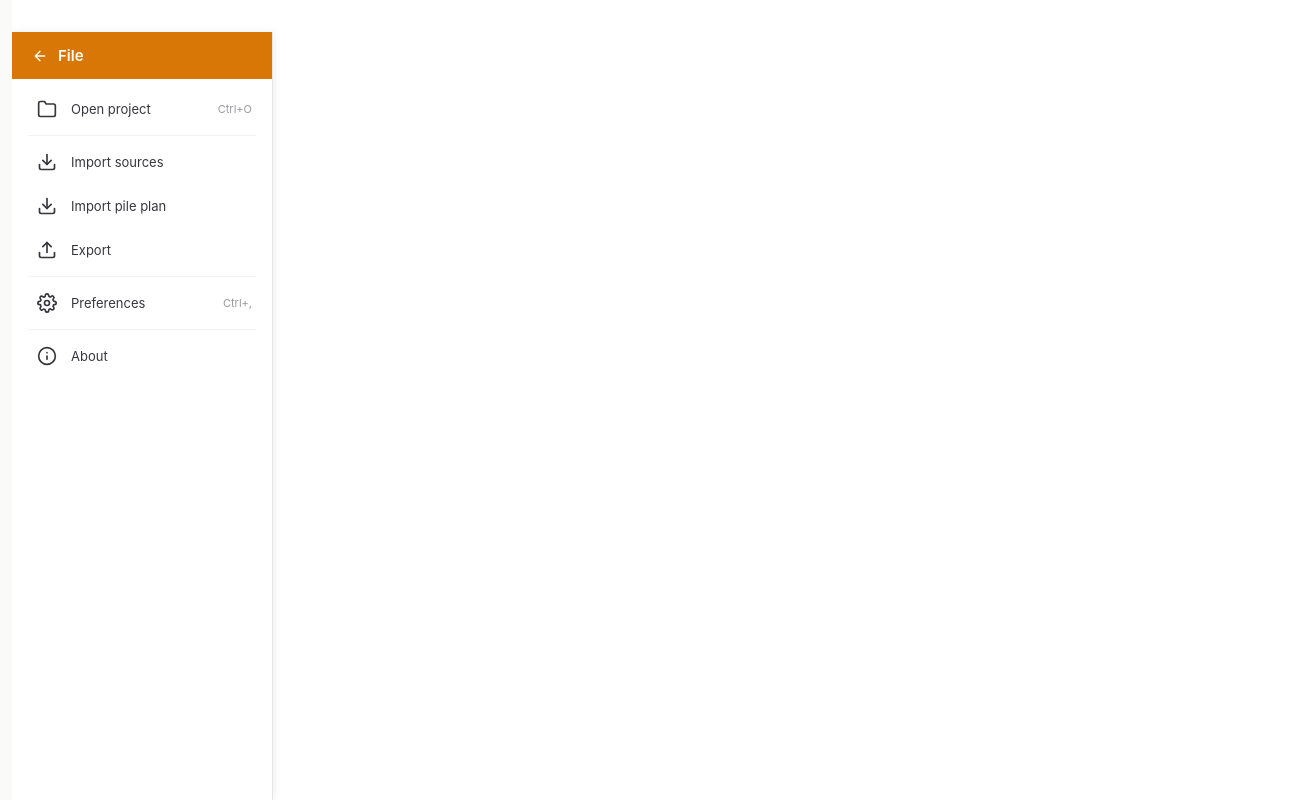
Scenario: all exports are blocked during one pending export and failures restore the controls
Click the button "Export" at [91, 250], box [12, 228, 272, 272]
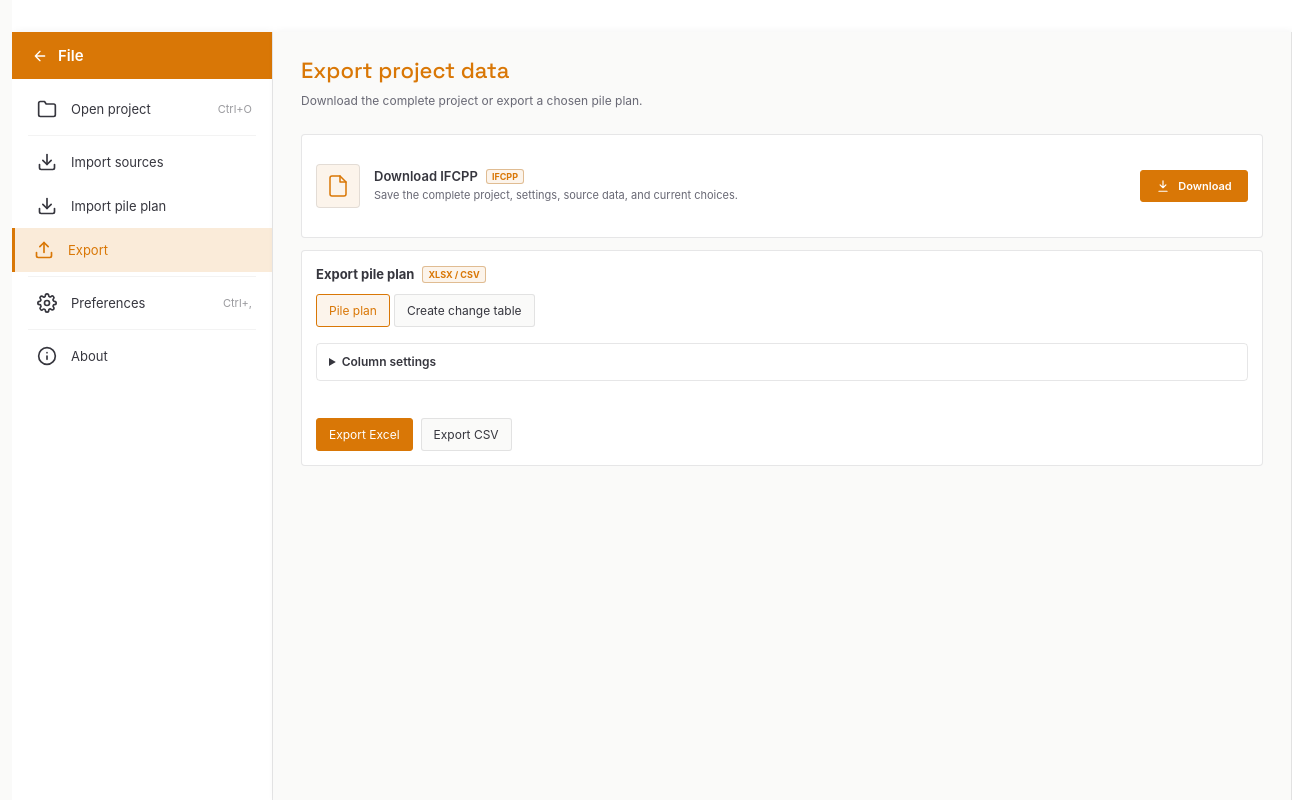
Click the button "Export Excel" at [364, 434], box [316, 418, 413, 451]
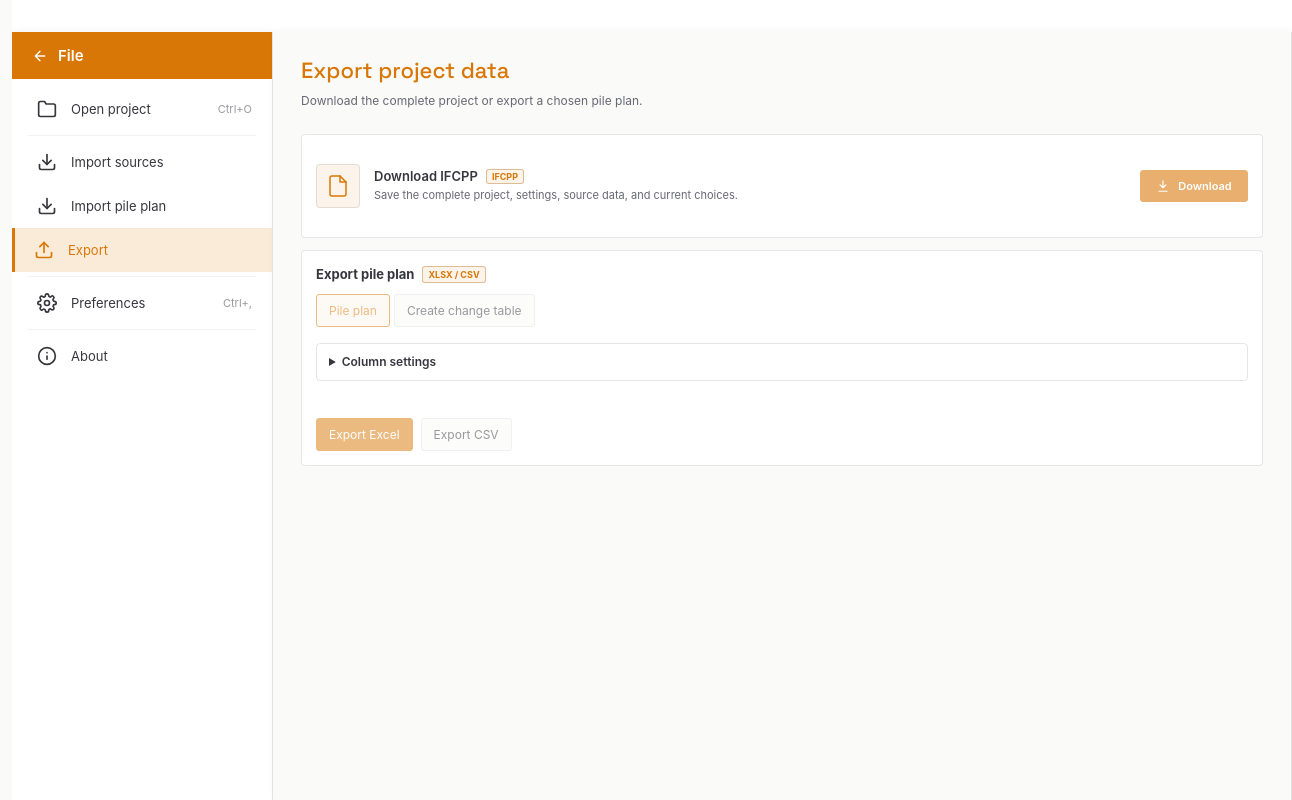
Click the button "Export CSV" at [466, 434], box [421, 418, 512, 451]
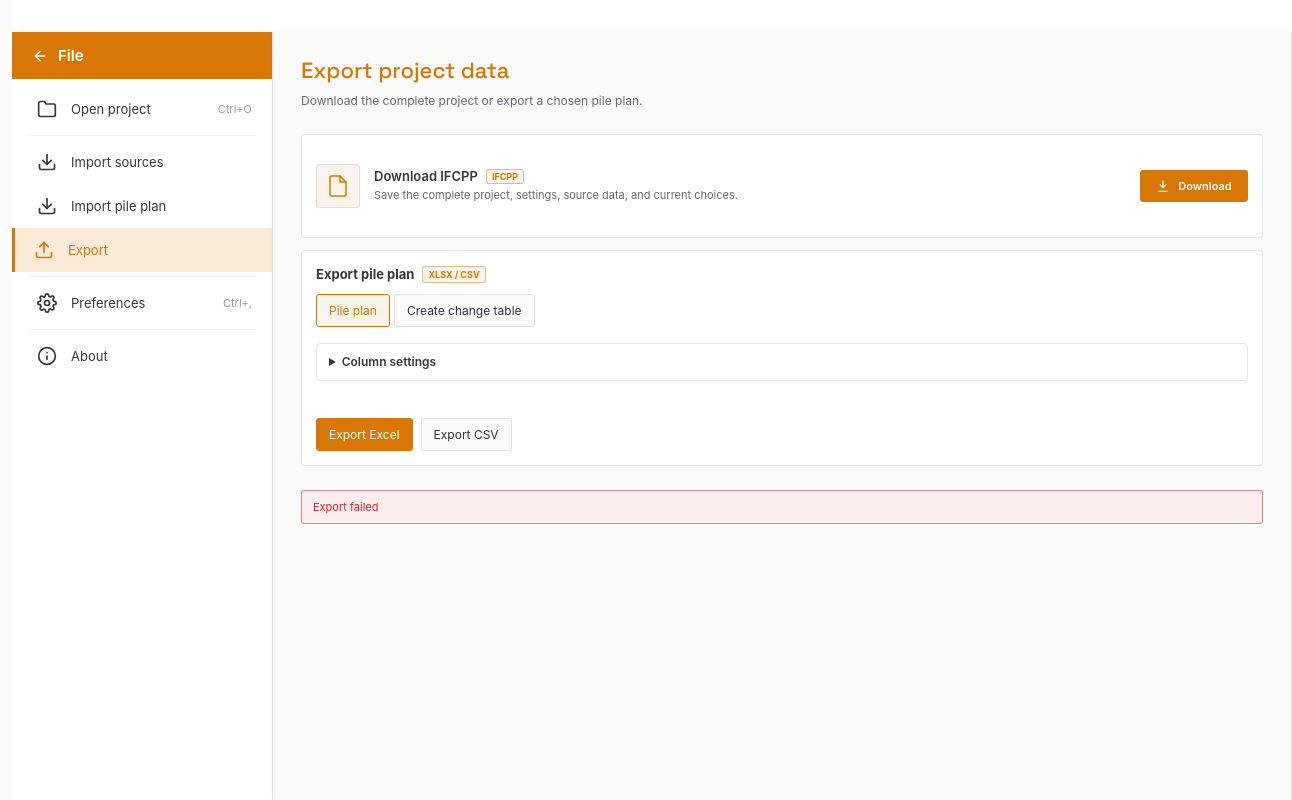
expect the message "Export failed" is shown: met, box [301, 490, 1263, 524]
